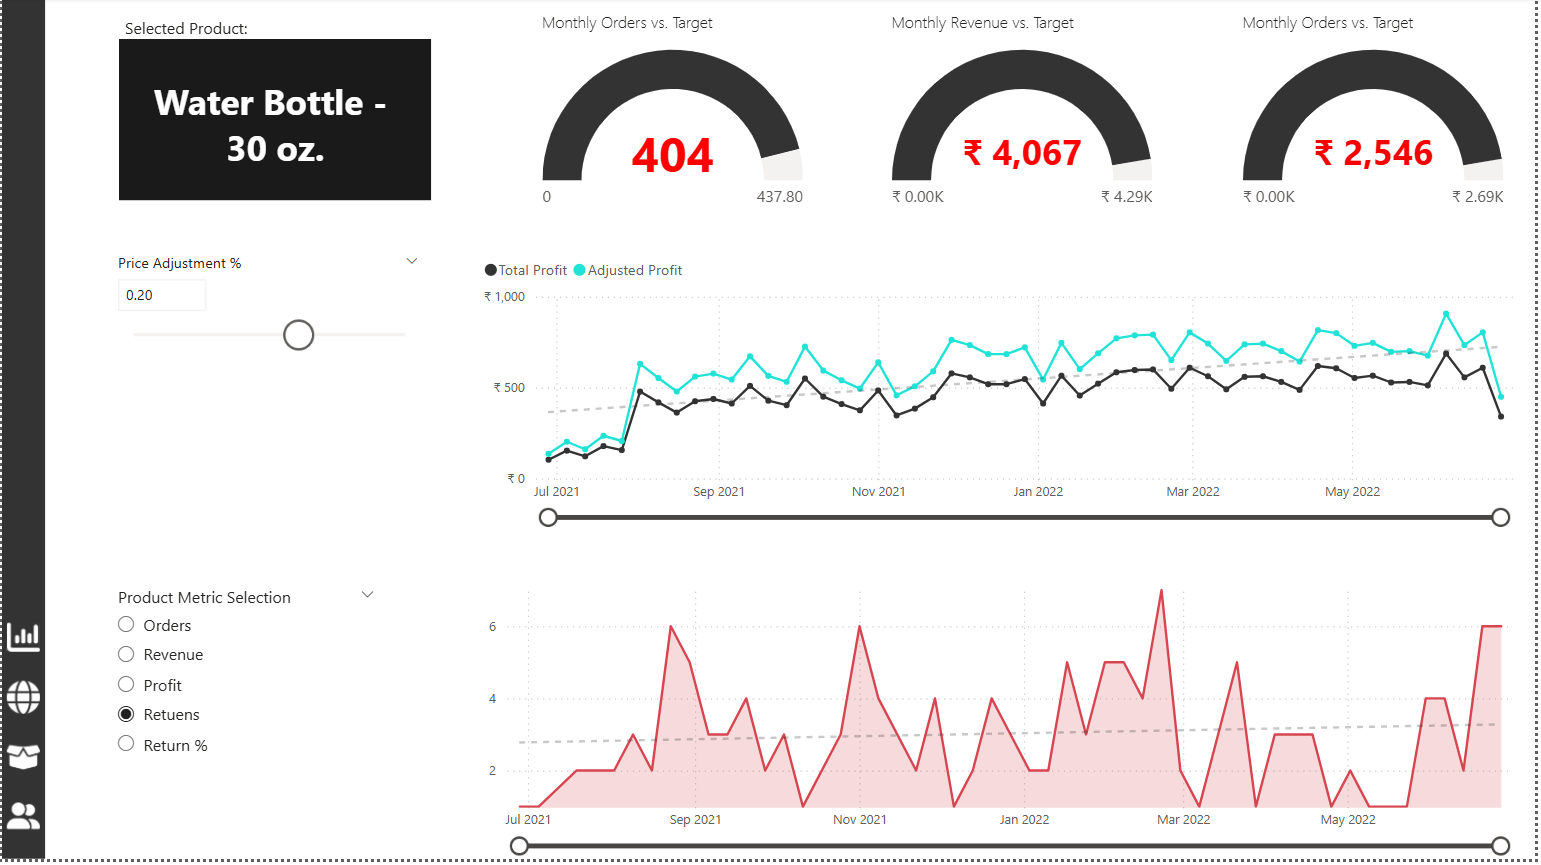

Layout of this report page (visuals, bound fields, positions):
{"tool":"powerbi","page":{"name":"Product Detail","canvas":[1280,720],"ordinal":2},"visuals":[{"type":"shape","title":"Left NW navigation","box":[0,0,36.2,719.8],"z":0},{"type":"actionButton","box":[0,514.6,35.7,39.8],"z":0,"group":"g1"},{"type":"gauge","title":"Monthly Orders vs. Target","fields":{"Y":["Measure Table.Total Orders"],"MaxValue":["Measure Table.Order Target"]},"box":[446,11,227.8,183.9],"z":1000},{"type":"actionButton","box":[0,564.5,35.7,39.8],"z":1000,"group":"g1"},{"type":"gauge","title":"Monthly Revenue vs. Target","fields":{"Y":["Measure Table.Total Revenue"],"MaxValue":["Measure Table.Revenue Target"]},"box":[738.3,11,227.8,183.9],"z":2000},{"type":"actionButton","box":[0,614.3,35.7,39.8],"z":2000,"group":"g1"},{"type":"gauge","title":"Monthly Orders vs. Target","fields":{"Y":["Measure Table.Total Profit"],"MaxValue":["Measure Table.Order Profit"]},"box":[1030.6,11,227.8,183.9],"z":3000},{"type":"actionButton","box":[0,664.2,35.7,39.8],"z":3000,"group":"g1"},{"type":"lineChart","title":"Profit Trend","fields":{"Category":["Calendar Lookup.Date Hierarchy.Start of Year","Calendar Lookup.Date Hierarchy.Start of Month","Calendar Lookup.Date Hierarchy.Start of Week","Calendar Lookup.Date Hierarchy.Date"],"Y":["Measure Table.Total Profit","Measure Table.Adjusted Profit"]},"box":[396.9,207.9,883.6,237.8],"z":4000},{"type":"areaChart","title":"Return Trend","fields":{"Y":["Measure Table.Total Orders"],"Category":["Calendar Lookup.Date Hierarchy.Start of Year","Calendar Lookup.Date Hierarchy.Start of Month","Calendar Lookup.Date Hierarchy.Start of Week","Calendar Lookup.Date Hierarchy.Date"]},"box":[396.6,481.7,883.8,238.8],"z":5000},{"type":"card","fields":{"Values":["Min(Product Lookup.ProductName)"]},"box":[97.4,35.7,260.7,134.5],"z":6000},{"type":"textbox","box":[97.4,11,127.6,30.2],"z":7000},{"type":"group","id":"g1","title":"Navigation Buttons","box":[0,514.6,35.7,189.4],"z":8000},{"type":"slicer","fields":{"Values":["Price Adjustment %.Price Adjustment %"]},"box":[83.5,207.9,275.6,119.7],"z":9000},{"type":"slicer","fields":{"Values":["Product Metric Selection.Product Metric Selection"]},"box":[83.5,486.7,239.4,167],"z":10000}]}

Visuals, with their boxes on the page's 1280x720 design canvas (x1, y1, x2, y2). These are canvas units, not pixel positions in the 1541x865 screenshot, which may show the page scaled, cropped or inside an application window:
"Left NW navigation" shape: {"x1": 0, "y1": 0, "x2": 36, "y2": 720}
actionButton: {"x1": 0, "y1": 515, "x2": 36, "y2": 554}
"Monthly Orders vs. Target" gauge: {"x1": 446, "y1": 11, "x2": 674, "y2": 195}
actionButton: {"x1": 0, "y1": 564, "x2": 36, "y2": 604}
"Monthly Revenue vs. Target" gauge: {"x1": 738, "y1": 11, "x2": 966, "y2": 195}
actionButton: {"x1": 0, "y1": 614, "x2": 36, "y2": 654}
"Monthly Orders vs. Target" gauge: {"x1": 1031, "y1": 11, "x2": 1258, "y2": 195}
actionButton: {"x1": 0, "y1": 664, "x2": 36, "y2": 704}
"Profit Trend" lineChart: {"x1": 397, "y1": 208, "x2": 1280, "y2": 446}
"Return Trend" areaChart: {"x1": 397, "y1": 482, "x2": 1280, "y2": 720}
card - Min(Product Lookup.ProductName): {"x1": 97, "y1": 36, "x2": 358, "y2": 170}
textbox: {"x1": 97, "y1": 11, "x2": 225, "y2": 41}
"Navigation Buttons" group: {"x1": 0, "y1": 515, "x2": 36, "y2": 704}
slicer - Price Adjustment %.Price Adjustment %: {"x1": 84, "y1": 208, "x2": 359, "y2": 328}
slicer - Product Metric Selection.Product Metric Selection: {"x1": 84, "y1": 487, "x2": 323, "y2": 654}
